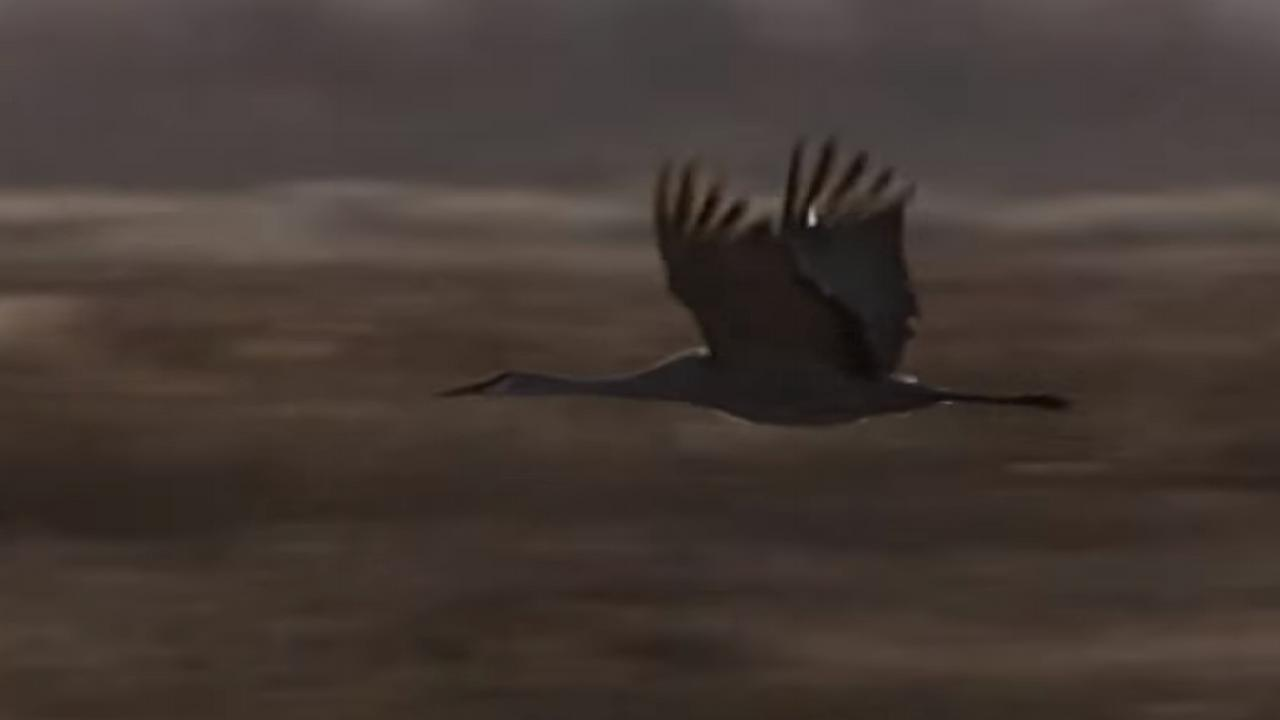Bird: (419, 118, 1097, 437)
